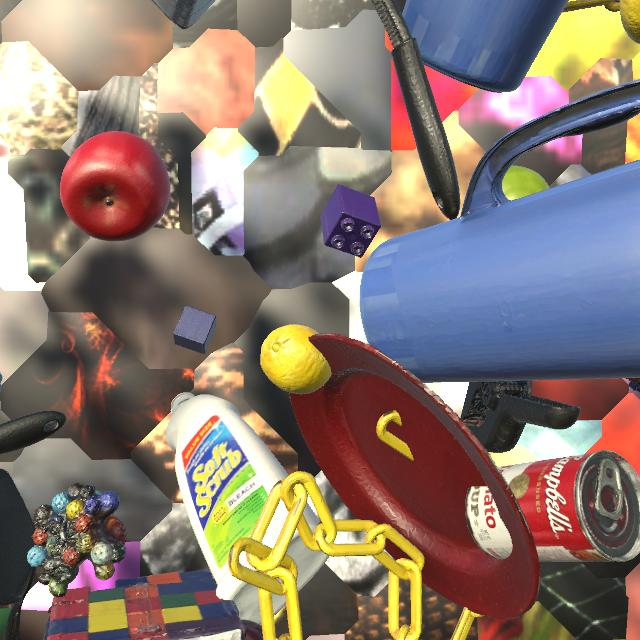ycb_005_tomato_soup_can: (465, 450, 640, 562)
ycb_008_pudding_box: (152, 0, 216, 29)
ycb_013_apple: (60, 131, 171, 242)
ycb_014_lemon: (260, 324, 332, 394), (619, 0, 640, 44)
ycb_016_pear: (502, 165, 549, 200)
ycb_018_plum: (241, 619, 263, 640)
